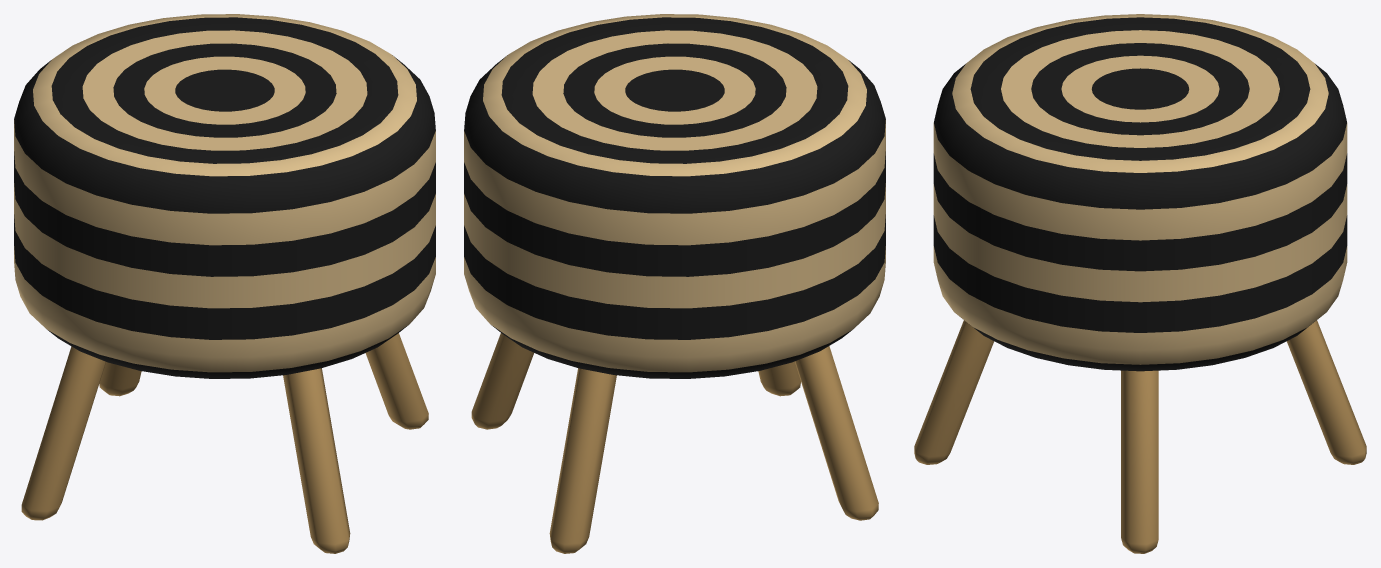
File: cushion_1.fbx
The picture shows the model from 3 angles, left to right: view 1: azimuth 30°, elevation 25°; view 2: azimuth 150°, elevation 25°; view 3: azimuth 270°, elevation 25°; orthographic projection. The views are drawn at different scales.
Parts seen in each view (by area): view 1: cushion 1; view 2: cushion 1; view 3: cushion 1.
Boxes of the visible parts, bbox=[...] form: cushion 1: bbox=[14, 14, 435, 553]; cushion 1: bbox=[464, 14, 885, 553]; cushion 1: bbox=[914, 14, 1366, 553].
Size of the model in its own units: 5.52 by 5.02 by 5.52.
